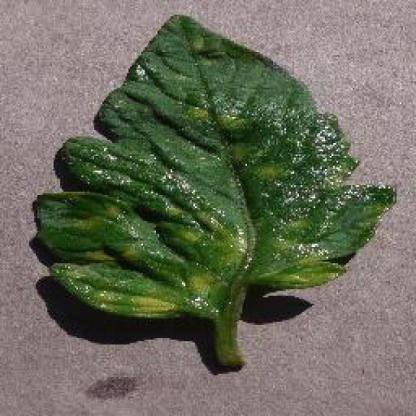Strawberry_Anthracnose_Fruit_Rot: (189, 105, 253, 134), (276, 262, 336, 292), (180, 272, 228, 298), (127, 291, 177, 311), (86, 247, 144, 263)
